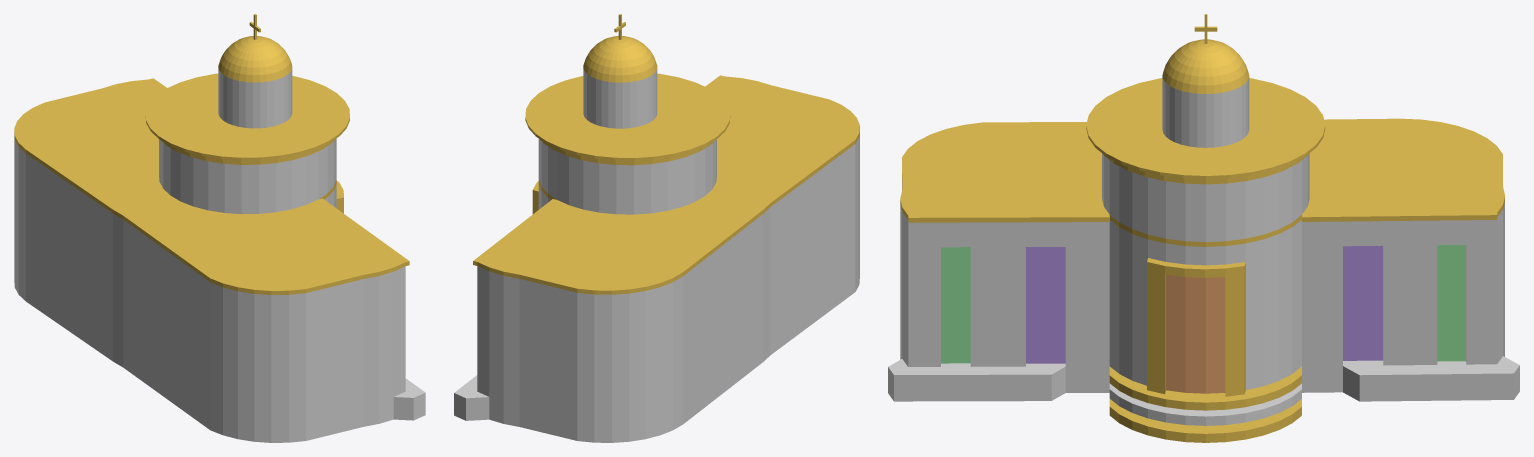
File: Church.fbx
3 renders of one model, left to right at view 1: azimuth 30°, elevation 25°; view 2: azimuth 150°, elevation 25°; view 3: azimuth 270°, elevation 25°, orthographic. The views are drawn at different scales.
Parts seen in each view (by area): view 1: Cylinder, Roof.002; view 2: Cylinder, Roof.002; view 3: Cylinder, Roof.002, Glas.015, Cylinder.001, Glas.016.
Boxes of the visible parts, x1,y1,x2,y2 form: Cylinder: (14, 68, 425, 442); Roof.002: (14, 14, 409, 294); Cylinder: (454, 69, 859, 442); Roof.002: (473, 14, 859, 294); Cylinder: (888, 76, 1519, 425); Roof.002: (900, 14, 1504, 442); Glas.015: (1026, 245, 1382, 363); Cylinder.001: (1166, 274, 1225, 393); Glas.016: (941, 245, 1465, 363).
Size of the model in its own units: 2178 by 2539 by 3975.
